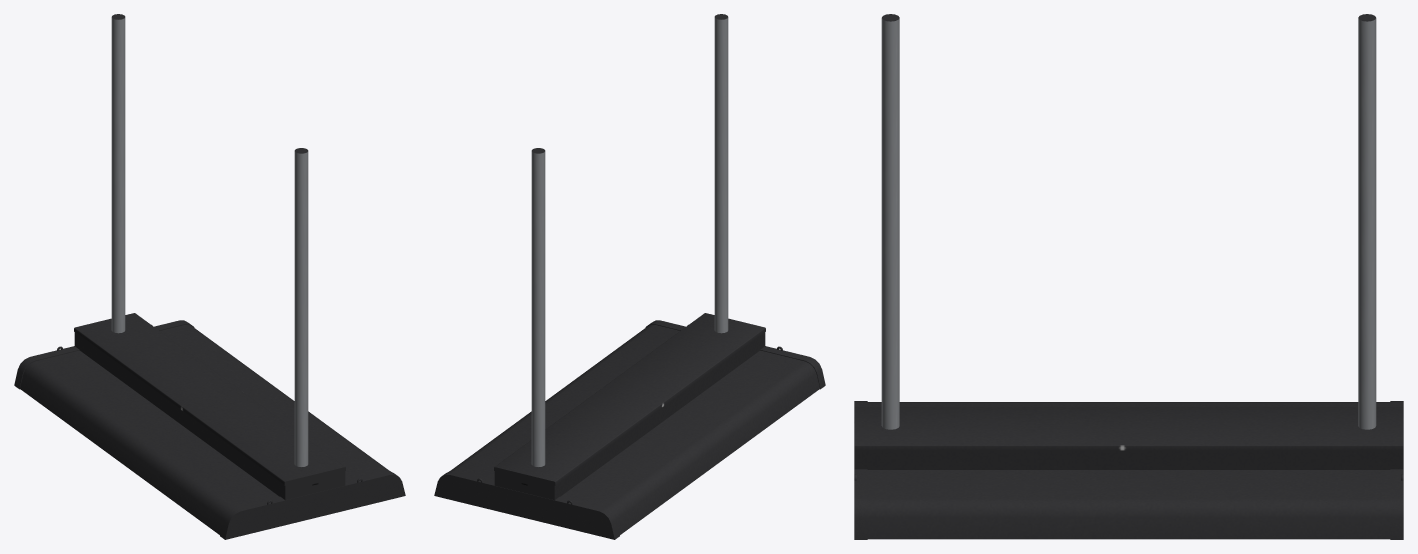
Rendered from SM05_Electronics_Light_Ceiling_02.fbx.
3 renders of one model, left to right at view 1: azimuth 30°, elevation 25°; view 2: azimuth 150°, elevation 25°; view 3: azimuth 270°, elevation 25°, orthographic. The views are drawn at different scales.
Visible parts, largest first — view 1: SM05_Electronics_Light_Ceiling_02_Head, SM05_Electronics_Light_Ceiling_02_Bar; view 2: SM05_Electronics_Light_Ceiling_02_Head, SM05_Electronics_Light_Ceiling_02_Bar; view 3: SM05_Electronics_Light_Ceiling_02_Head, SM05_Electronics_Light_Ceiling_02_Bar.
Boxes of the visible parts, x1,y1,x2,y2 form: SM05_Electronics_Light_Ceiling_02_Head: (14, 313, 405, 539); SM05_Electronics_Light_Ceiling_02_Bar: (111, 14, 308, 466); SM05_Electronics_Light_Ceiling_02_Head: (434, 313, 825, 539); SM05_Electronics_Light_Ceiling_02_Bar: (531, 14, 728, 466); SM05_Electronics_Light_Ceiling_02_Head: (854, 401, 1403, 539); SM05_Electronics_Light_Ceiling_02_Bar: (881, 14, 1376, 429).
Size of the model in its own units: 0.3016 by 0.5707 by 0.61.
